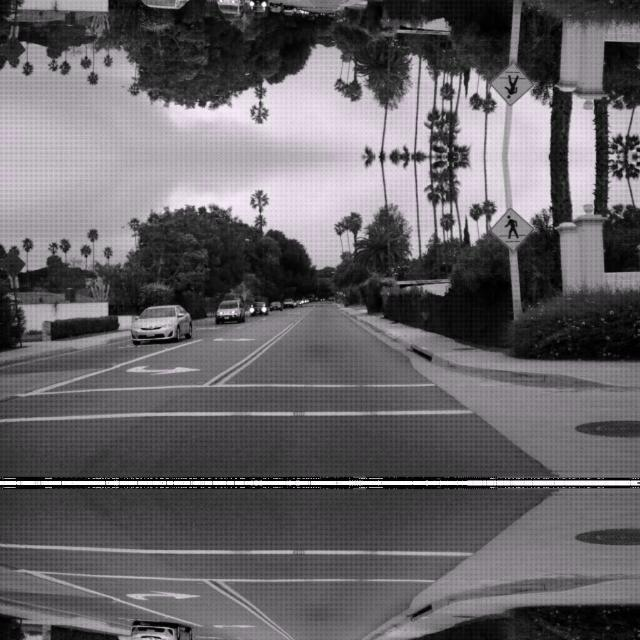pedestrianCrossing: (488, 205, 534, 251), (488, 61, 534, 107)
